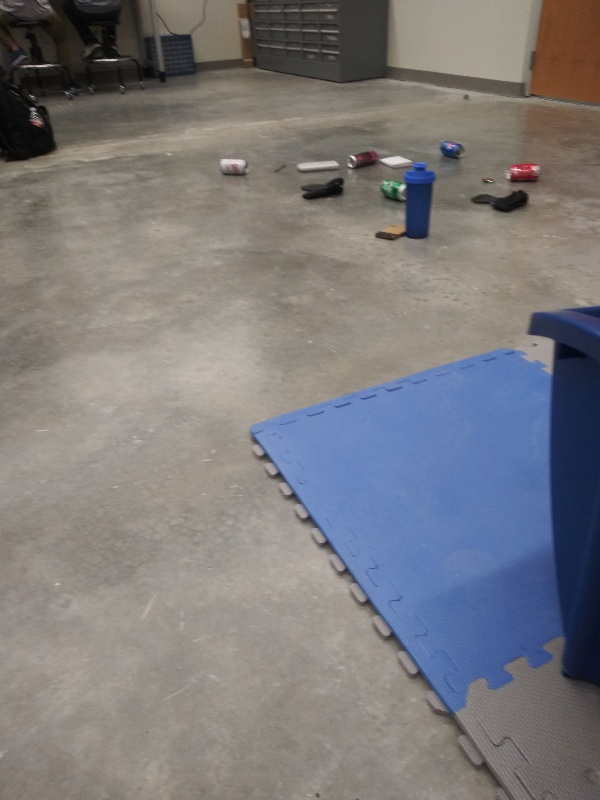can: (505, 161, 542, 185), (346, 148, 379, 170), (378, 179, 408, 202), (217, 156, 251, 176), (438, 138, 466, 162)
